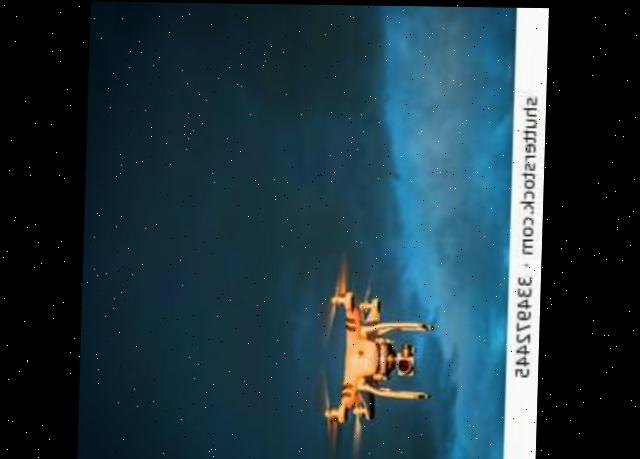drone: (311, 213, 446, 459)
